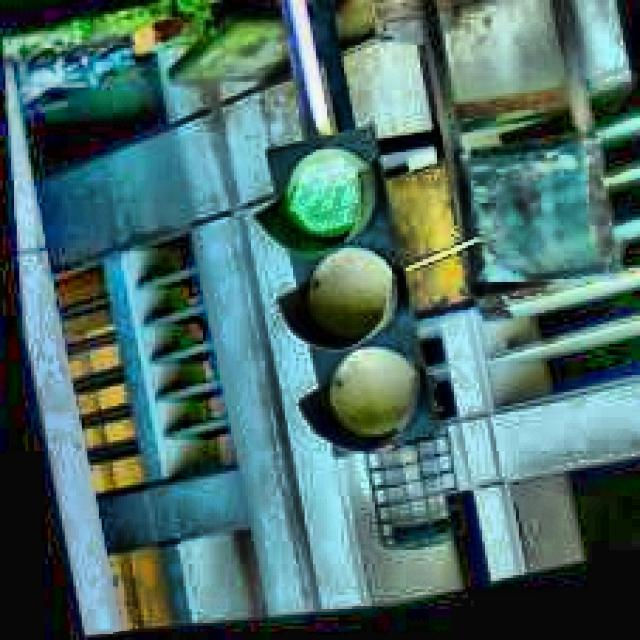green: (247, 128, 430, 470)
